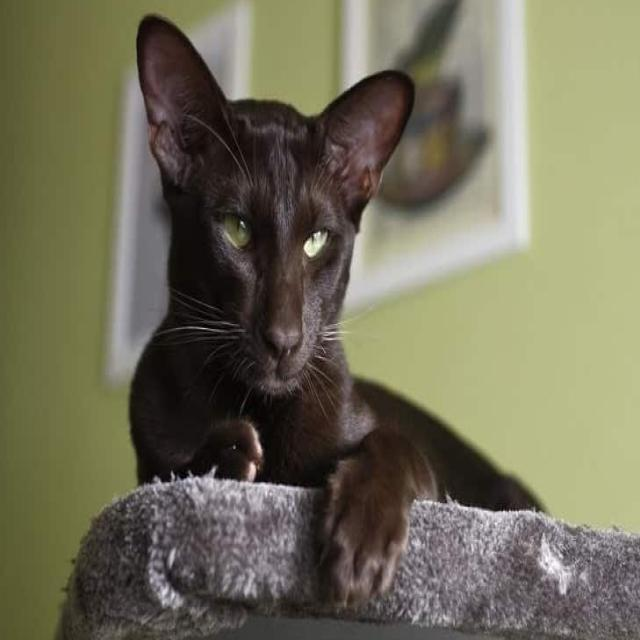Oriental: (125, 9, 560, 614)
